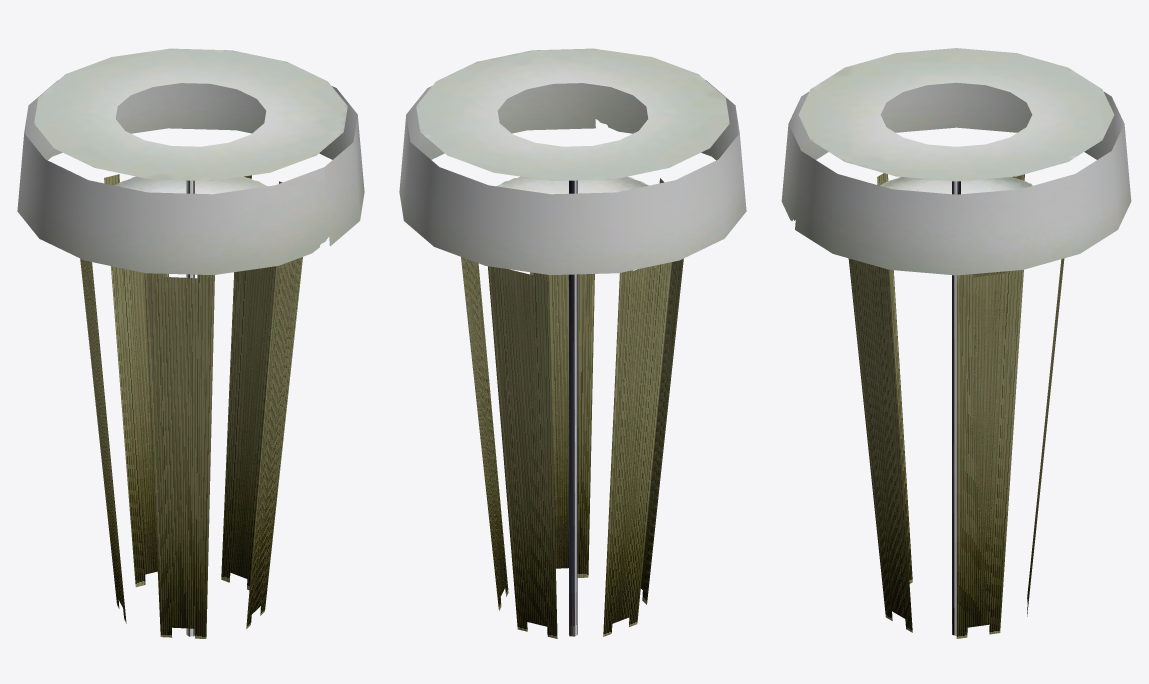
The model's file is corporate_chandelier_8green.fbx.
3 views of the same model, side by side, from view 1: azimuth 30°, elevation 25°; view 2: azimuth 150°, elevation 25°; view 3: azimuth 270°, elevation 25° (orthographic).
Visible parts, largest first — view 1: mesh_1, mesh_3, mesh_2; view 2: mesh_1, mesh_3, mesh_0, mesh_2; view 3: mesh_1, mesh_3, mesh_0, mesh_2.
Part boxes in pixels (left/top/right/bottom): mesh_1: left=17, top=48, right=364, bottom=274; mesh_3: left=80, top=174, right=302, bottom=638; mesh_2: left=114, top=176, right=267, bottom=194; mesh_1: left=399, top=48, right=746, bottom=274; mesh_3: left=461, top=178, right=683, bottom=638; mesh_0: left=569, top=180, right=577, bottom=636; mesh_2: left=496, top=176, right=648, bottom=194; mesh_1: left=781, top=48, right=1131, bottom=275; mesh_3: left=848, top=173, right=1064, bottom=638; mesh_0: left=952, top=181, right=960, bottom=635; mesh_2: left=880, top=177, right=1032, bottom=194.
Bounding box in the file's own units: 109 × 208 × 109.
4 materials, 4 textured.
